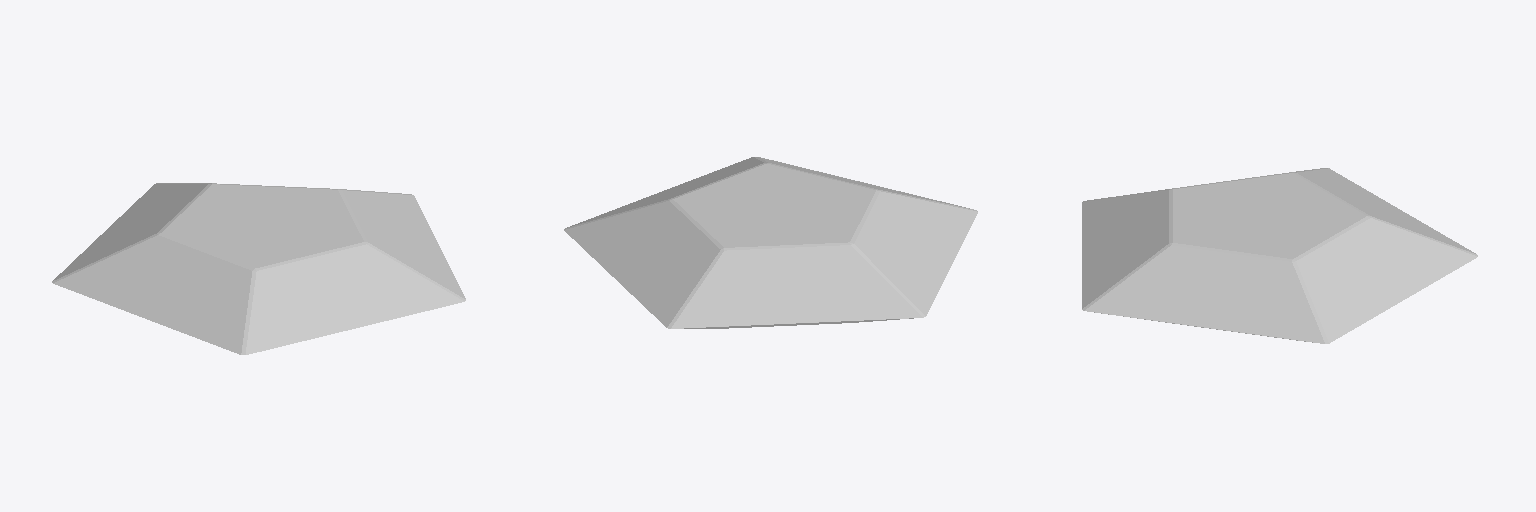
File: gem-5.obj
3 renders of one model, left to right at view 1: azimuth 30°, elevation 25°; view 2: azimuth 150°, elevation 25°; view 3: azimuth 270°, elevation 25°, orthographic.
Parts seen in each view (by area): view 1: gem_Cylinder; view 2: gem_Cylinder; view 3: gem_Cylinder.
Boxes of the visible parts, x1=… form: gem_Cylinder: x1=52, y1=183, x2=465, y2=354; gem_Cylinder: x1=564, y1=157, x2=977, y2=328; gem_Cylinder: x1=1082, y1=168, x2=1477, y2=343.
Size of the model in its own units: 18.95 by 4 by 18.02.